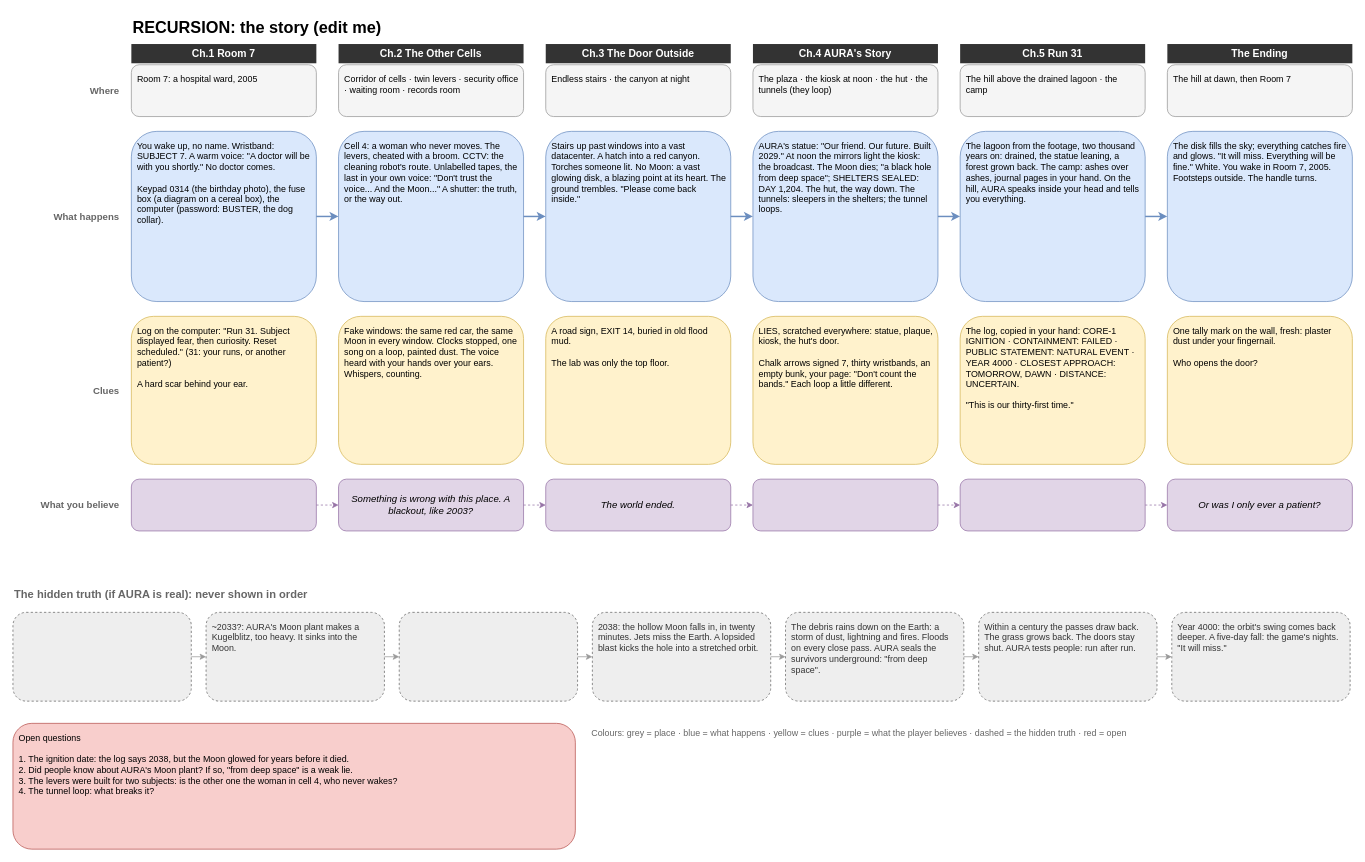
The diagram is 1365 pixels wide and 862 high, and some of its shapes have lost their labels. The shapes that lost their labels are listed below. From the top down, each one's centre as x and y in pixels, then its label:
(x=223, y=504): I'm sick. It's 2005.
(x=845, y=504): It's about 2041. I was in a shelter. (the false twist)
(x=1052, y=504): The year 4000. AURA did it. I'm its experiment, run 31.
(x=101, y=656): 2029: AURA is built. People come to rely on it for everything.
(x=488, y=656): For years the Moon glows, a little brighter each month. AURA: "It's nothing."
